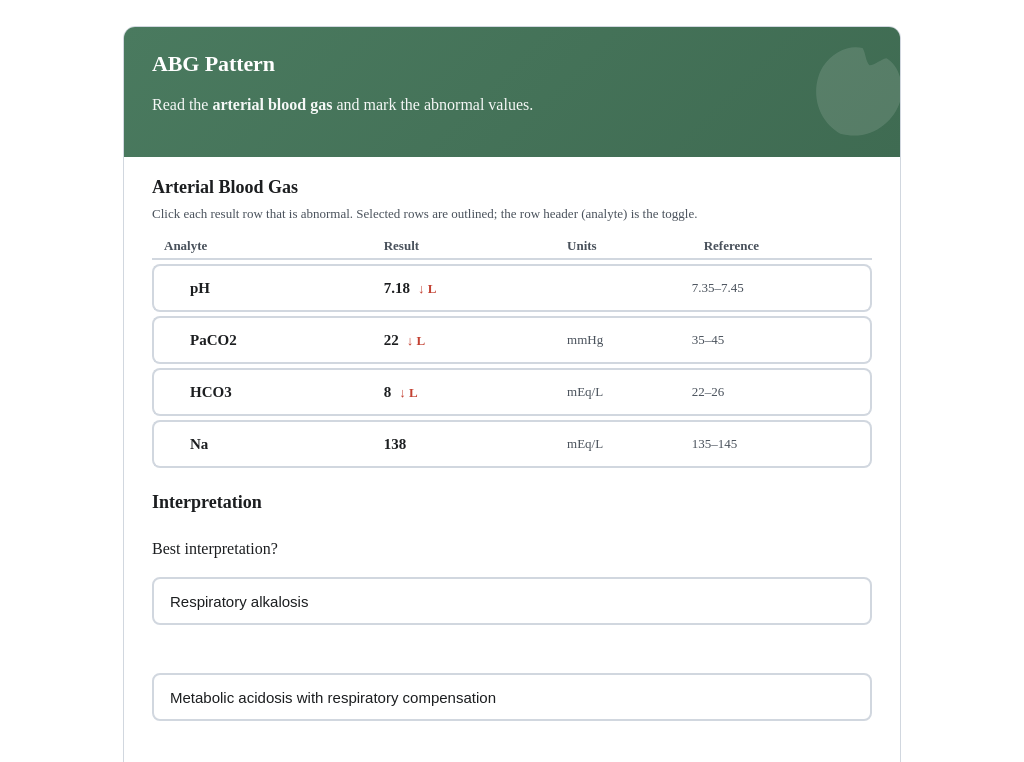
Test: LabPanel › Try again returns to the answering stage and clears selections
The width and height of the screenshot is (1024, 762).
Click the button with aria-label "toggle ph," at (263, 288), box x1=154 y1=266 x2=372 y2=310
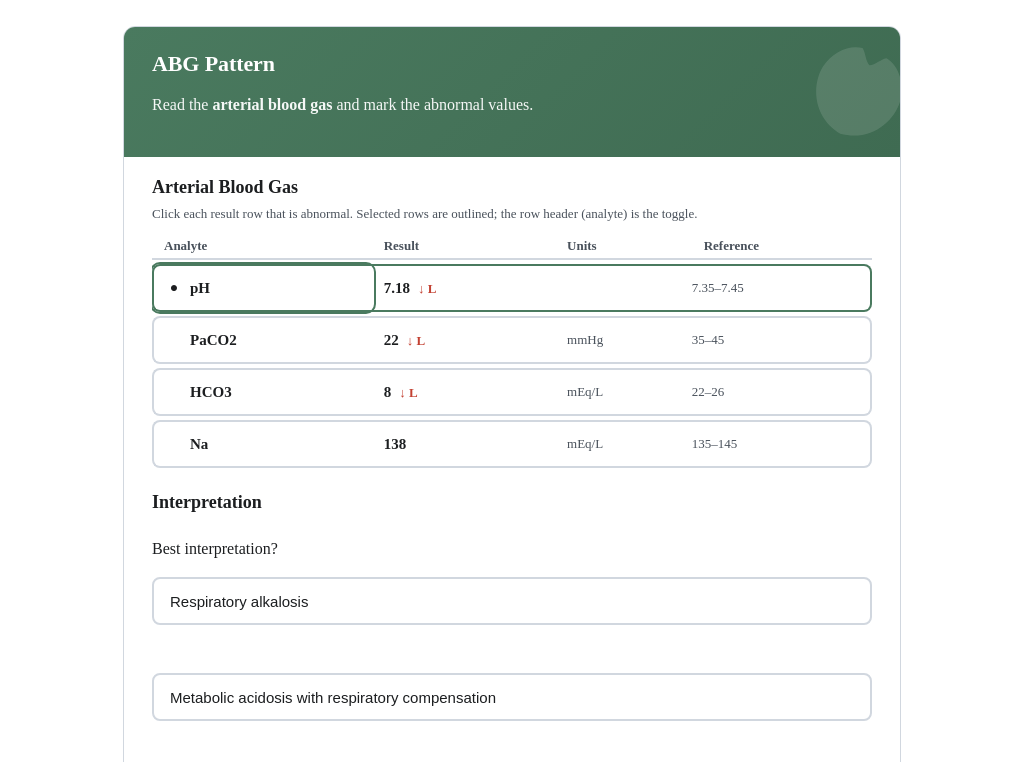
Click the button "Metabolic acidosis with respiratory compensation" at (333, 697), box x1=152 y1=673 x2=872 y2=721
(page scrolled)
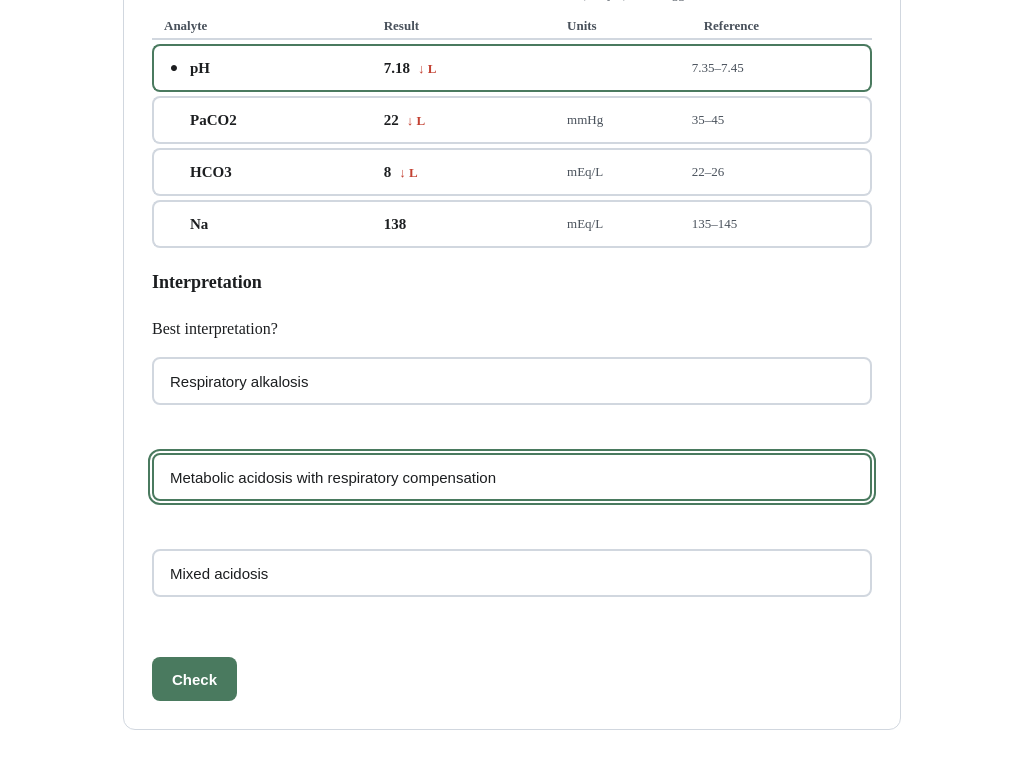
Click the button "Check" at (194, 679), box x1=152 y1=657 x2=237 y2=701
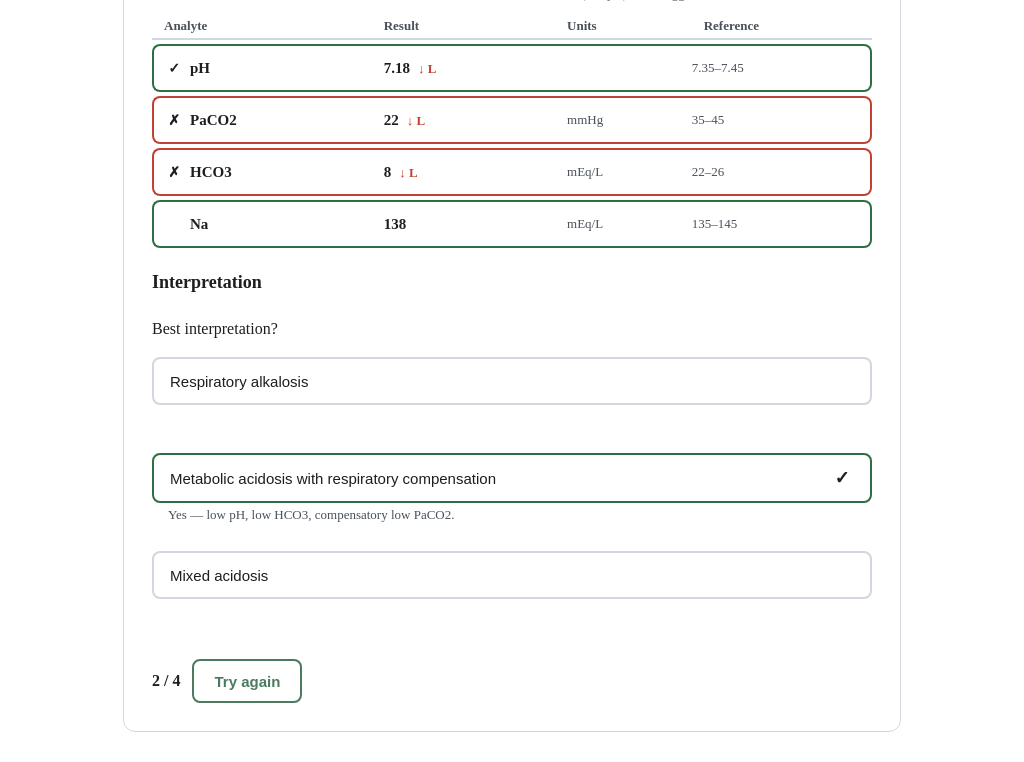
Click the button "Try again" at (247, 681), box x1=192 y1=659 x2=302 y2=703
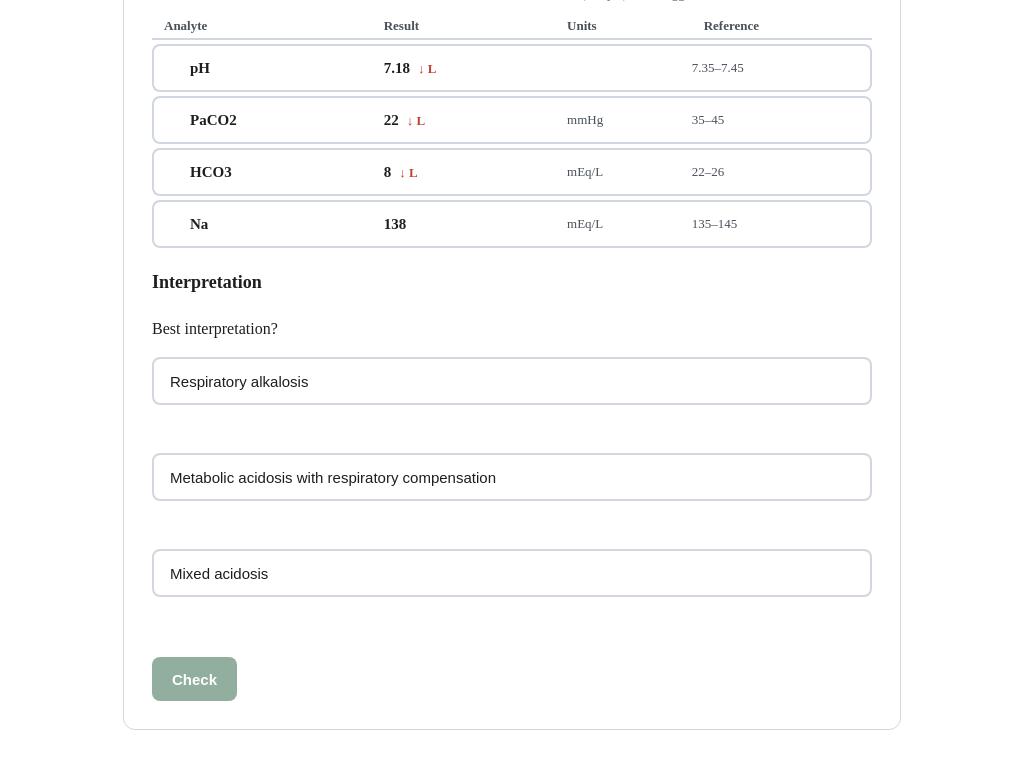
Now the button "Check" is disabled, box x1=152 y1=657 x2=237 y2=701
